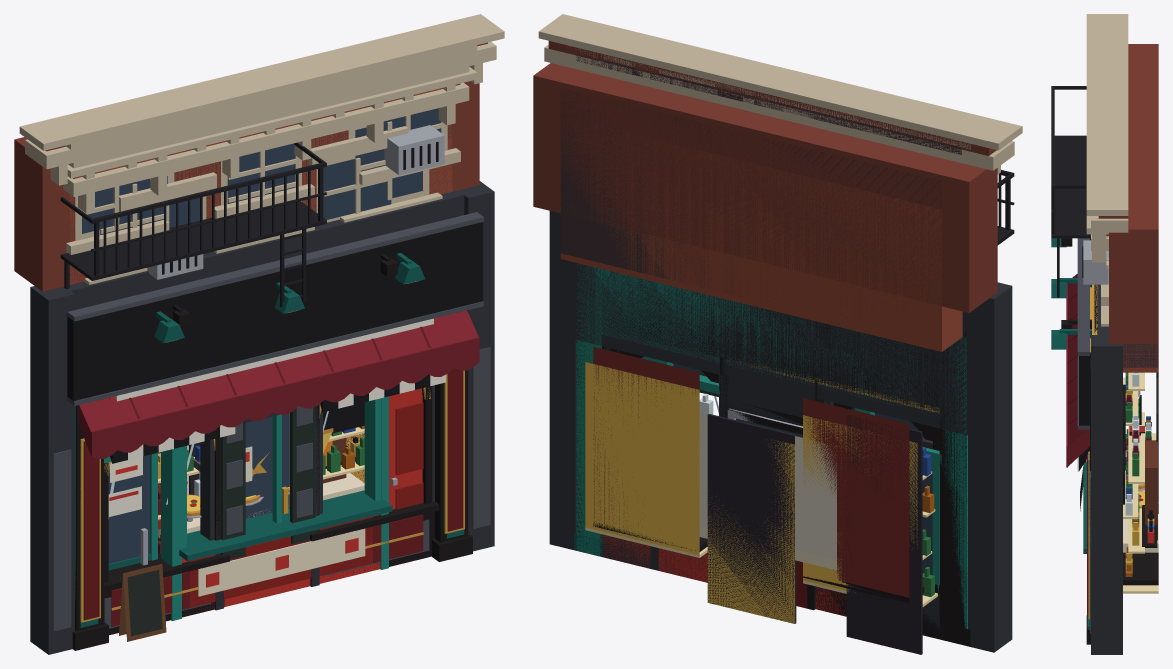
The model's file is storefronts.glb.
3 renders of one model, left to right at view 1: azimuth 30°, elevation 25°; view 2: azimuth 150°, elevation 25°; view 3: azimuth 270°, elevation 25°, orthographic. The views are drawn at different scales.
Visible parts, largest first — view 1: LiquorStore, LiquorStoreUp, PizzaShop, TattooShop, PizzaShopUp, TattooShopUp; view 2: LiquorStore, LiquorStoreUp, TattooShop, PizzaShopUp, PizzaShop, TattooShopUp; view 3: LiquorStoreUp, LiquorStore, TattooShop, PizzaShop, PizzaShopUp, TattooShopUp.
Boxes of the visible parts, x1,y1,x2,y2 form: LiquorStore: [30, 181, 494, 654]; LiquorStoreUp: [14, 14, 504, 307]; PizzaShop: [75, 253, 464, 627]; TattooShop: [72, 254, 472, 650]; PizzaShopUp: [63, 67, 477, 284]; TattooShopUp: [65, 44, 477, 284]; LiquorStore: [549, 211, 1012, 652]; LiquorStoreUp: [533, 14, 1022, 312]; TattooShop: [573, 267, 970, 646]; PizzaShopUp: [560, 123, 962, 351]; PizzaShop: [574, 264, 967, 654]; TattooShopUp: [560, 45, 971, 333]; LiquorStoreUp: [1051, 14, 1158, 344]; LiquorStore: [1066, 238, 1158, 654]; TattooShop: [1061, 238, 1158, 644]; PizzaShop: [1051, 238, 1158, 629]; PizzaShopUp: [1086, 216, 1158, 372]; TattooShopUp: [1101, 306, 1158, 367].
Size of the model in its own units: 8.44 by 9 by 1.95.
